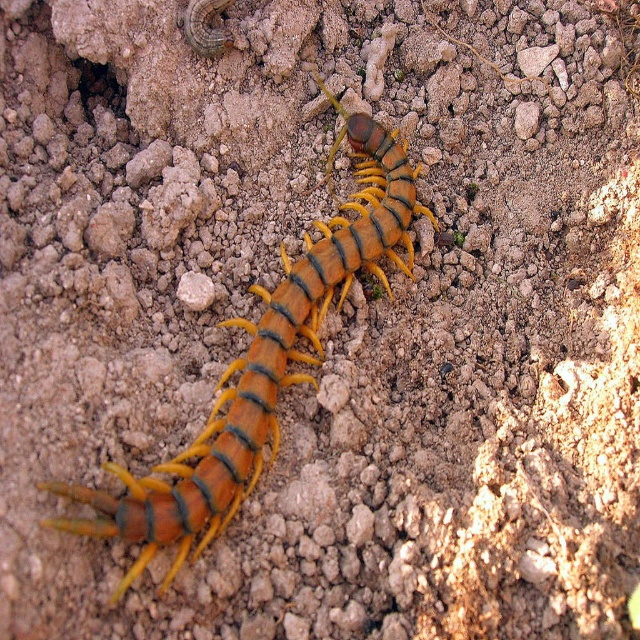Centipede: (34, 73, 442, 615)
